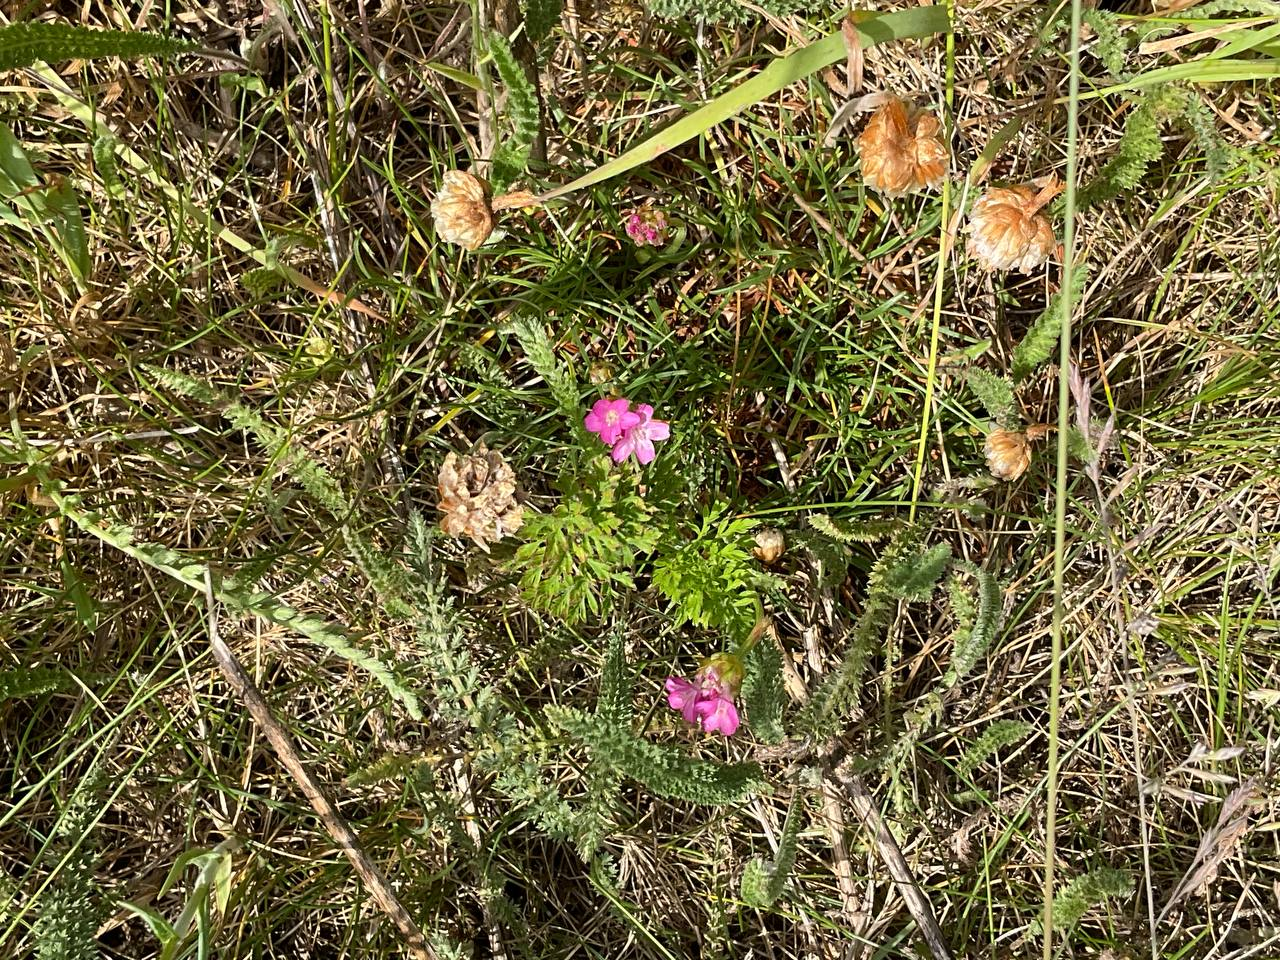armeria-maritima: (383, 43, 1067, 743)
